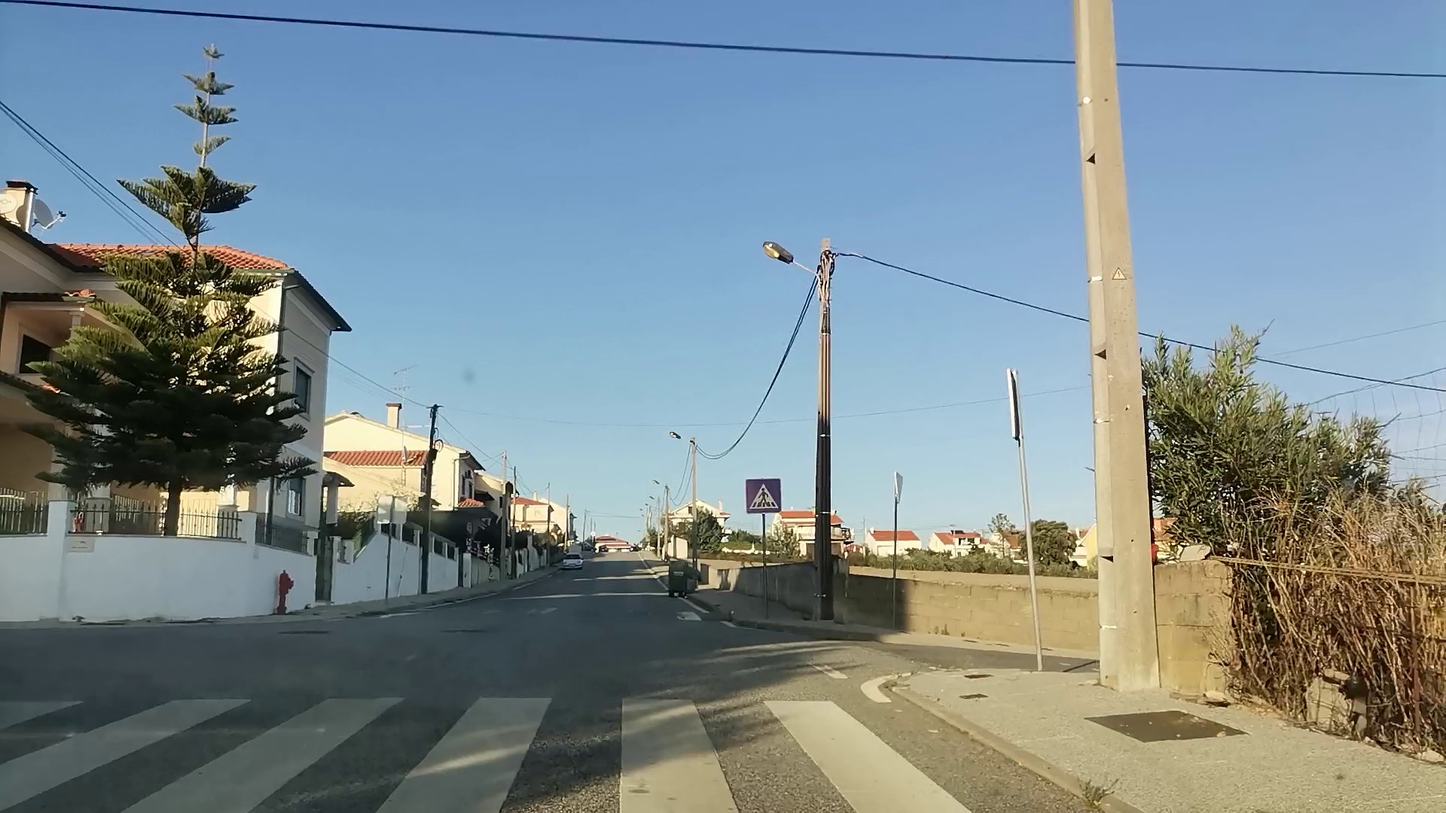Stairs: (1, 683, 988, 813)
